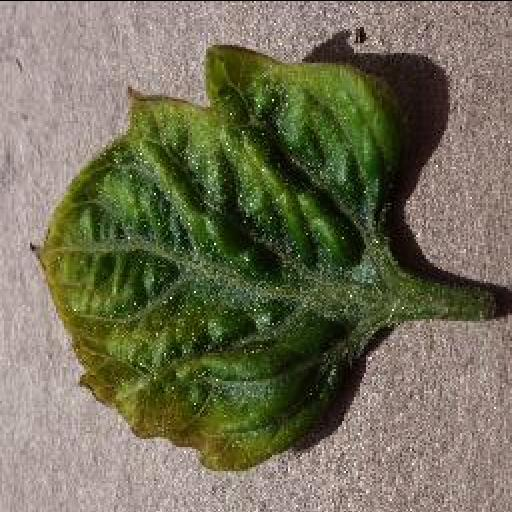disease_tomato: (26, 42, 410, 472)
